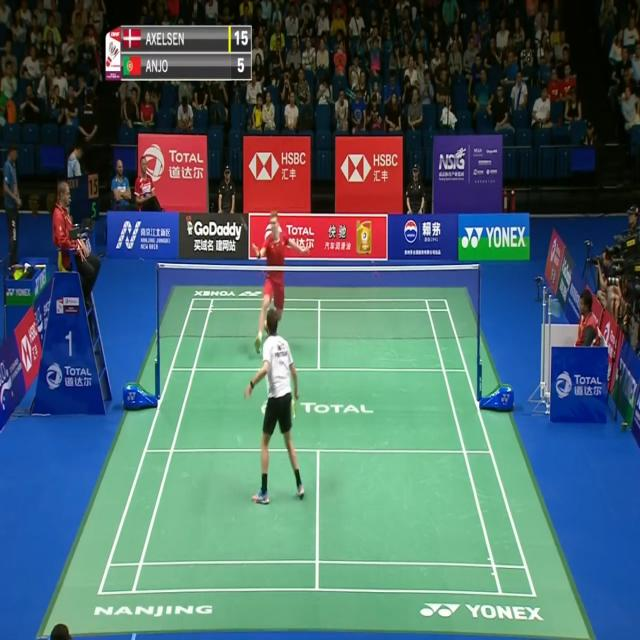Player1: (242, 305, 308, 506)
Player2: (245, 204, 313, 350)
